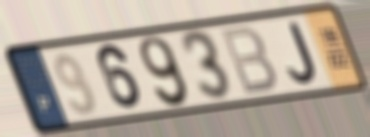3: (181, 28, 232, 105)
6: (95, 42, 146, 114)
9: (136, 34, 189, 109), (52, 50, 100, 119)
B: (217, 24, 280, 98)
J: (285, 19, 319, 86)
